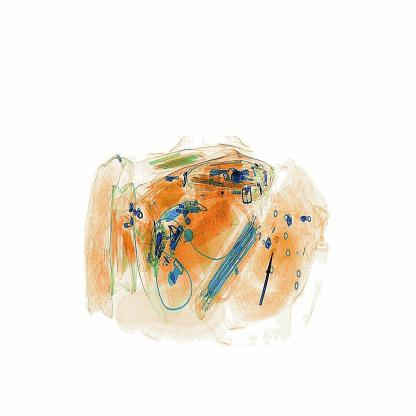gun: (257, 233, 277, 300)
